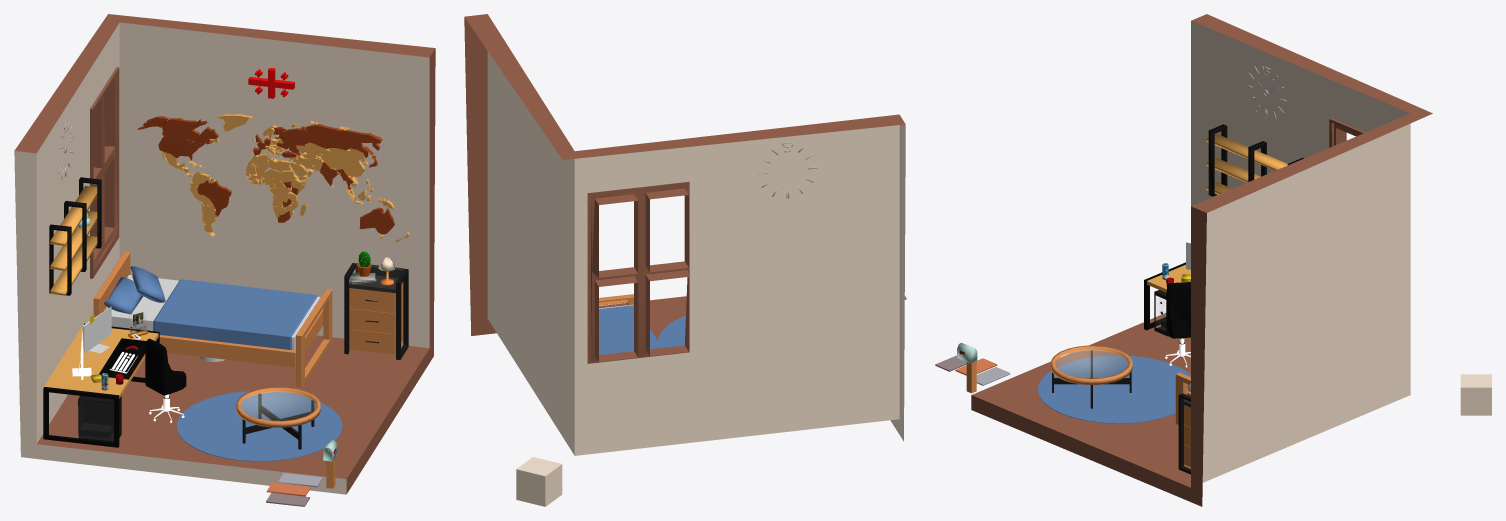
File: Finale Version 16.glb
The picture shows the model from 3 angles, left to right: view 1: azimuth 30°, elevation 25°; view 2: azimuth 150°, elevation 25°; view 3: azimuth 270°, elevation 25°; orthographic projection. The views are drawn at different scales.
Parts seen in each view (by area): view 1: body, bed, map, rug, table, Stand, clock, coffee_table, desk, pillows, chair, steps2 (+4 smaller); view 2: body, bed, Cube, rug; view 3: body, rug, coffee_table, clock, chair, Cube, table, Stand, steps2, mailbox.
Part boxes in pixels (<box>): body: <box>14,14,435,494</box>; bed: <box>93,251,332,386</box>; map: <box>137,114,409,242</box>; rug: <box>176,391,342,461</box>; table: <box>43,323,159,447</box>; Stand: <box>344,251,408,359</box>; clock: <box>49,121,101,295</box>; coffee_table: <box>236,387,320,449</box>; desk: <box>90,310,147,390</box>; pillows: <box>104,266,165,314</box>; chair: <box>145,338,186,395</box>; steps2: <box>266,473,322,506</box>; body: <box>464,14,905,455</box>; bed: <box>599,294,661,354</box>; Cube: <box>516,457,562,506</box>; rug: <box>658,315,685,347</box>; body: <box>971,14,1432,506</box>; rug: <box>1037,355,1190,423</box>; coffee_table: <box>1051,345,1132,408</box>; clock: <box>1206,66,1303,196</box>; chair: <box>1166,282,1190,338</box>; Cube: <box>1460,374,1491,415</box>; table: <box>1144,262,1190,336</box>; Stand: <box>1178,384,1190,474</box>; steps2: <box>935,355,1010,385</box>; mailbox: <box>957,342,977,393</box>.
Size of what is drawn, in the model's own units: 30.18 by 20.96 by 35.68.
42 materials, 8 textured.
